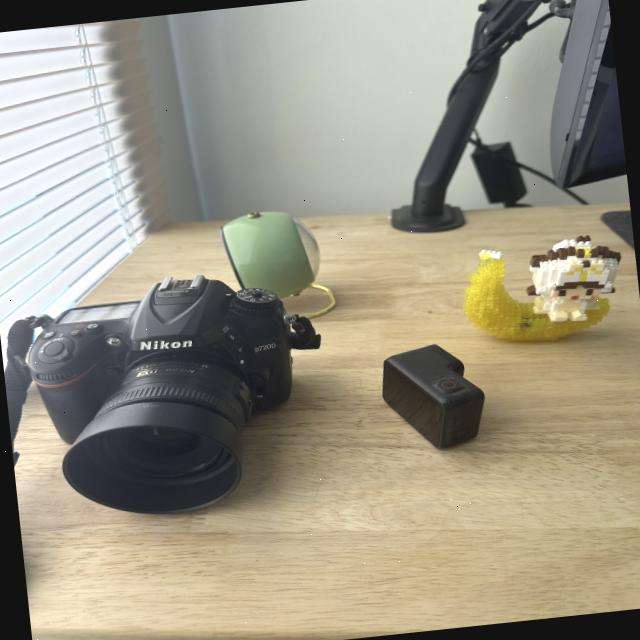actioncam: (365, 330, 501, 468)
camera: (0, 260, 352, 540)
clock: (196, 186, 358, 346)
toy: (426, 210, 640, 362)
